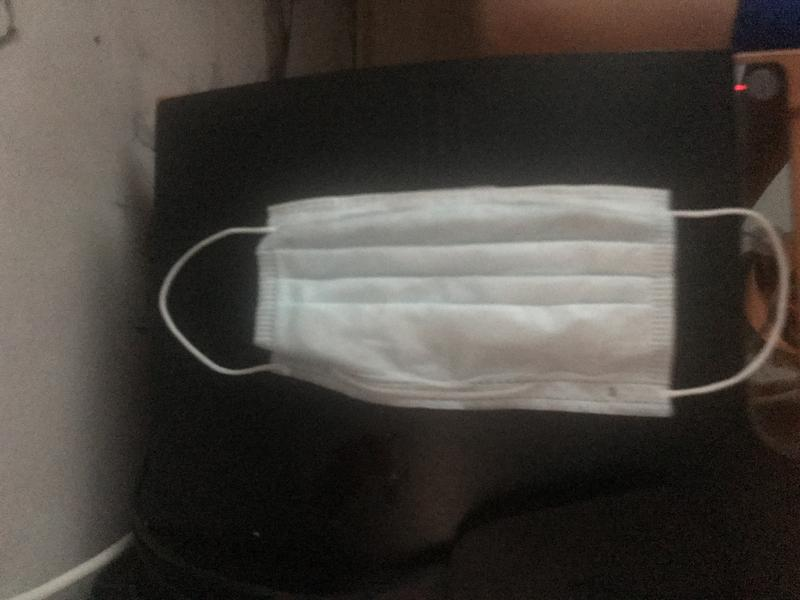medical_mask: (156, 184, 800, 420)
